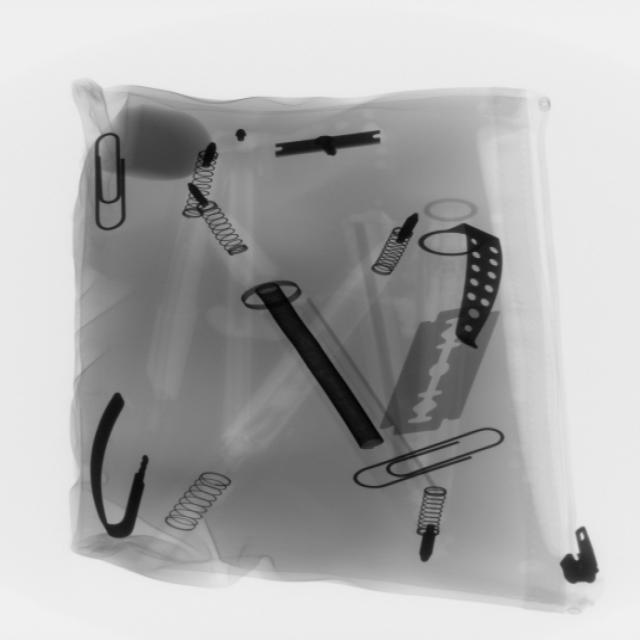BLADE: (379, 300, 495, 449)
